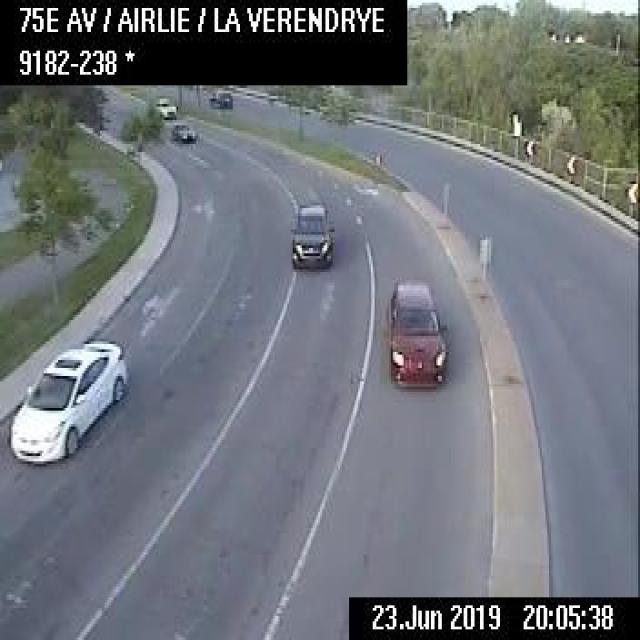vehicle: (7, 333, 129, 464), (385, 270, 449, 390), (287, 197, 335, 267), (169, 118, 195, 142), (156, 96, 176, 118), (208, 90, 232, 106)
